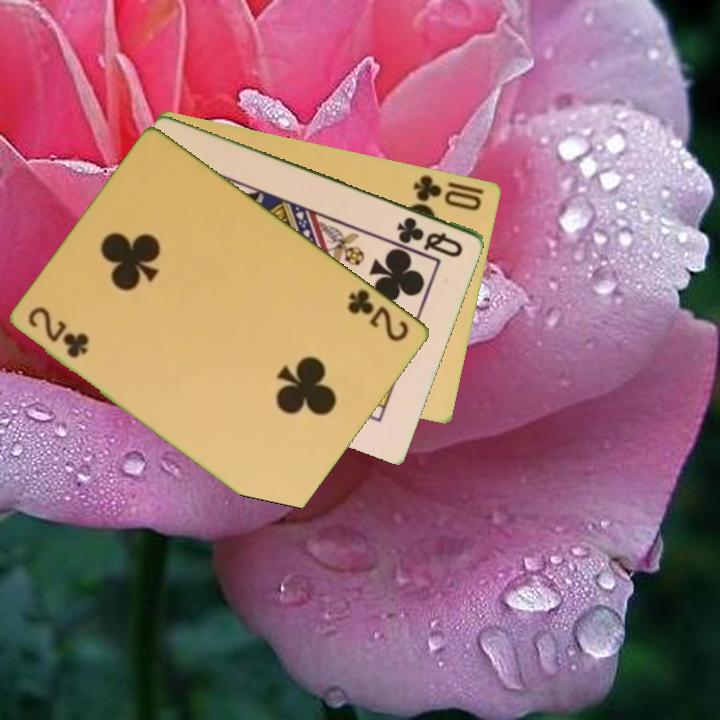10c: (410, 171, 488, 213)
2c: (344, 285, 413, 345), (25, 303, 92, 361)
Qc: (393, 213, 467, 260)
